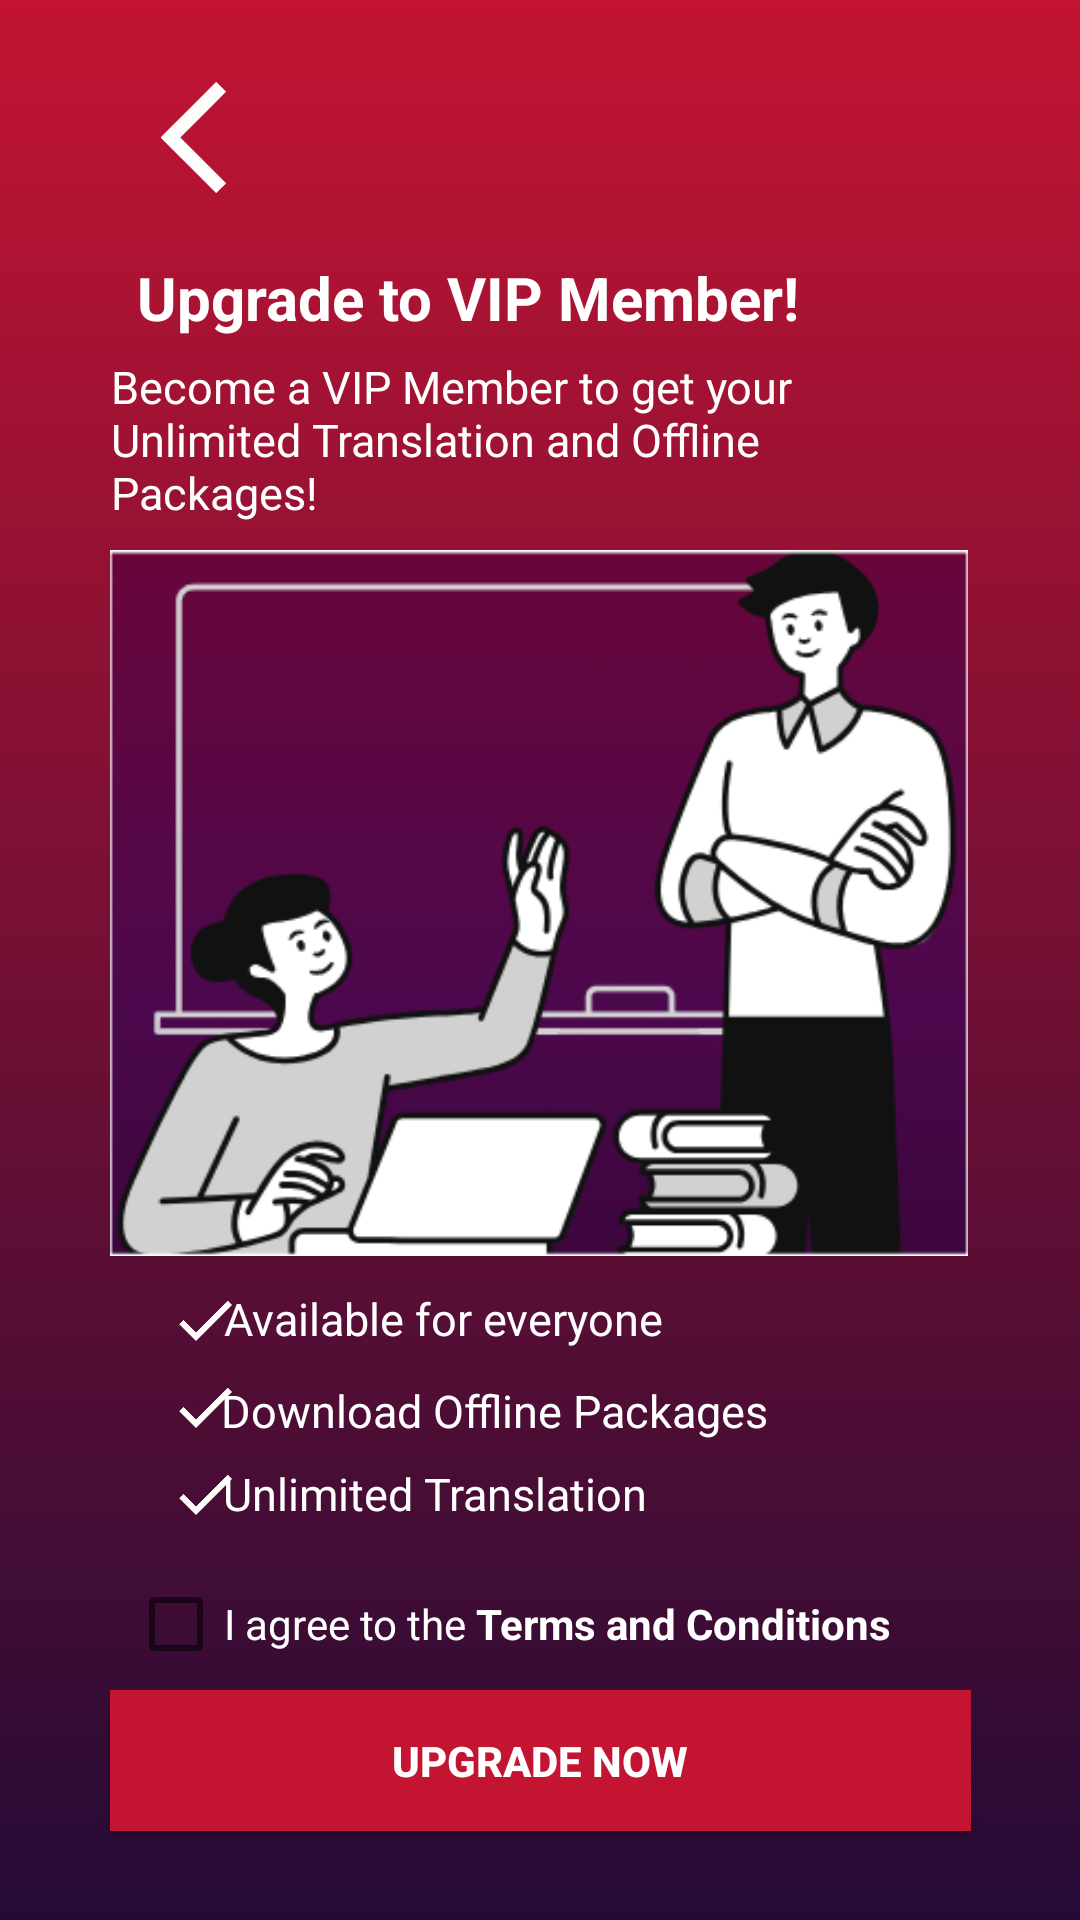

Icons on this 1080 x 1920 Android screen, each with its box as BBox(x1, y1, x2, y2):
arr: BBox(161, 82, 226, 193)
